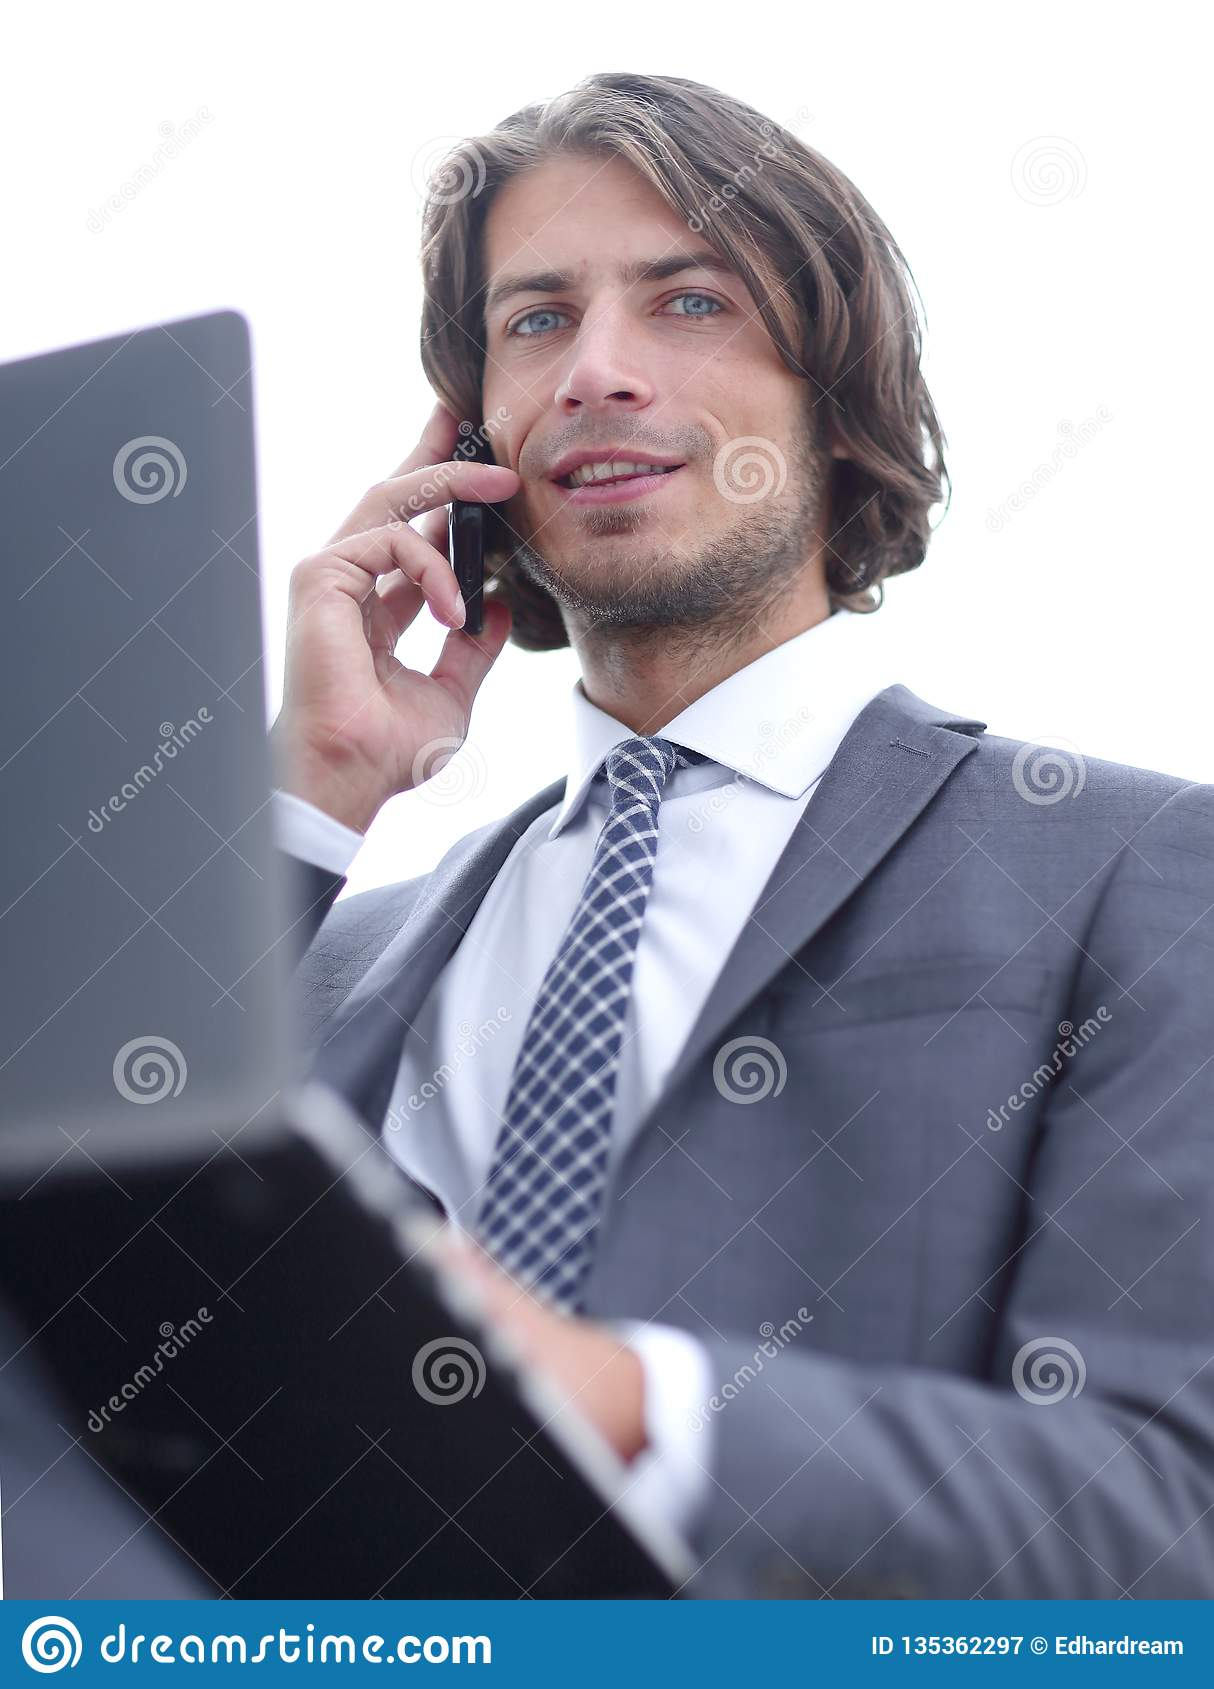phone: (414, 389, 519, 660)
talk: (281, 243, 747, 833)
